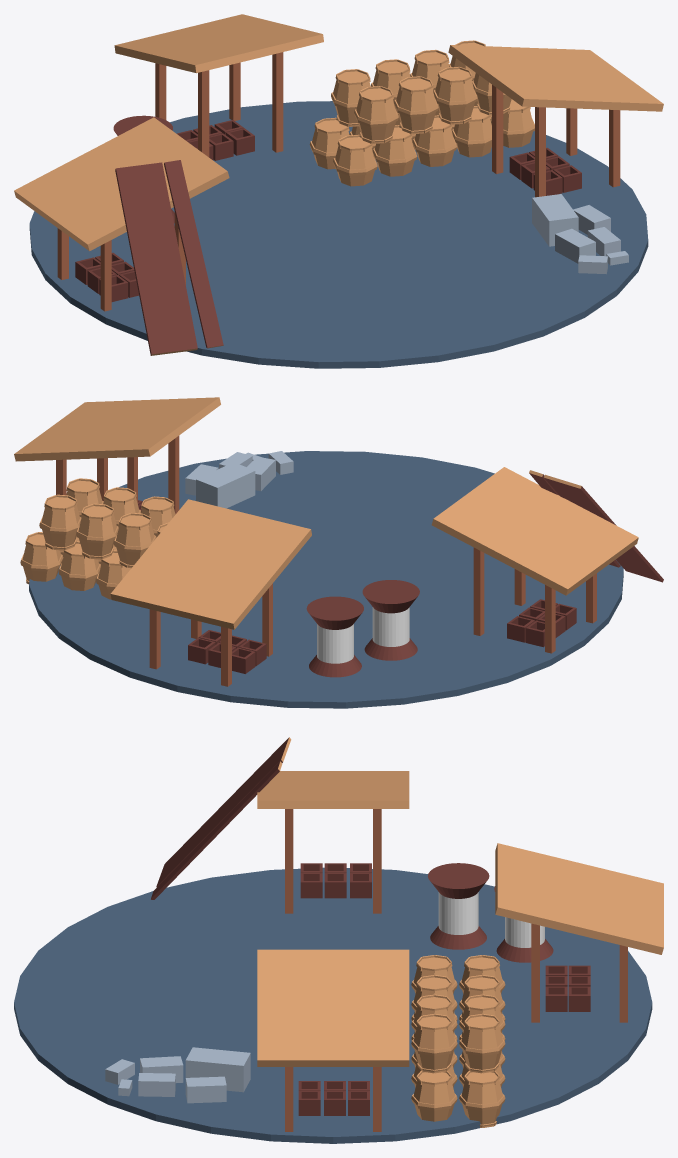
File: market.fbx
3 renders of one model, top to bottom at view 1: azimuth 30°, elevation 25°; view 2: azimuth 150°, elevation 25°; view 3: azimuth 270°, elevation 25°, orthographic. The views are drawn at different scales.
Visible parts, largest first — view 1: Cylinder, barrels, Cube.004, Cube.001, Cube.003, Cube.016, Cube.017, Cube.002, Cube.005, Cube.006, Cube.018, Cube.021 (+3 smaller); view 2: Cylinder, Cube.003, Cube.004, barrels, Cube.001, Cylinder.004, Cylinder.001, Cube.018, Cube.006, Cube.005, Cube.016, Cube.021; view 3: Cylinder, Cube.001, Cube.003, barrels, Cube.004, Cylinder.004, Cube.005, Cube.002, Cube.006, Cube.018, Cube.016, Cylinder.001 (+4 smaller).
Part boxes in pixels (x1,y1,x2,y2): Cylinder: (29,101,648,368); barrels: (309,40,534,186); Cube.004: (14,117,229,311); Cube.001: (448,45,663,197); Cube.003: (114,14,323,157); Cube.016: (115,162,197,355); Cube.017: (164,160,223,348); Cube.002: (509,147,581,195); Cube.005: (75,252,138,301); Cube.006: (177,120,254,160); Cube.018: (532,194,578,246); Cube.021: (555,228,595,263); Cylinder: (29,451,623,708); Cube.003: (110,499,311,686); Cube.004: (431,467,638,653); barrels: (20,478,175,599); Cube.001: (14,397,220,514); Cylinder.004: (362,580,419,660); Cylinder.001: (306,596,363,677); Cube.018: (196,462,255,508); Cube.006: (188,630,266,673); Cube.005: (507,599,576,647); Cube.016: (544,474,663,582); Cube.021: (247,456,275,490); Cylinder: (14,867,652,1143); Cube.001: (257,949,409,1131); Cube.003: (495,843,663,1022); barrels: (411,955,505,1127); Cube.004: (257,771,409,913); Cylinder.004: (428,863,489,949); Cube.005: (300,863,371,898); Cube.002: (298,1081,369,1115); Cube.006: (545,965,590,1011); Cube.018: (185,1047,250,1092); Cube.016: (156,737,291,887); Cylinder.001: (494,886,553,962).
Bounding box in the file's own units: 13.26 × 3.19 × 12.58.
